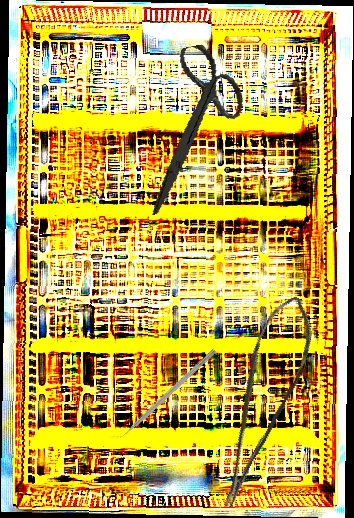Chopper: (109, 343, 217, 445)
Iris Scissors: (119, 38, 263, 216)
Micro Scissor: (185, 288, 332, 512)
